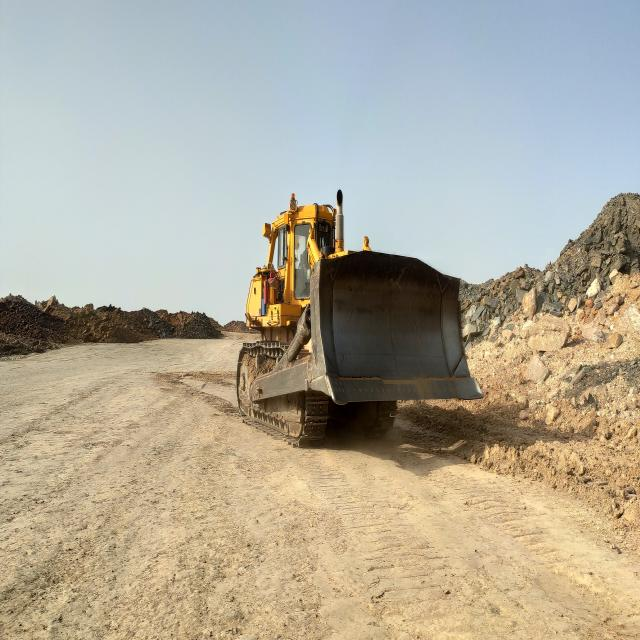buldozerpayloadergrader: (238, 191, 480, 444)
